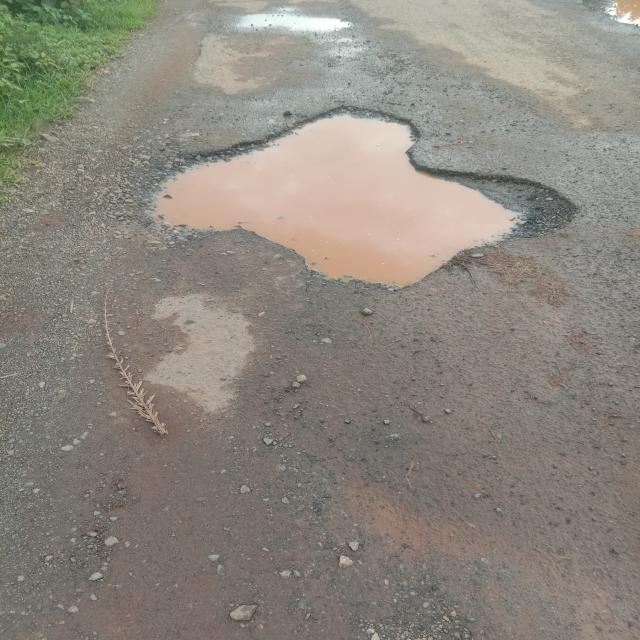potholes: (138, 103, 579, 293), (235, 11, 356, 38), (594, 1, 640, 30)
